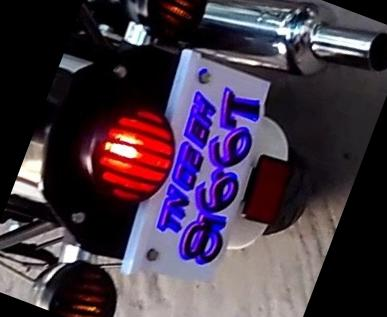plate: (118, 55, 289, 302)
